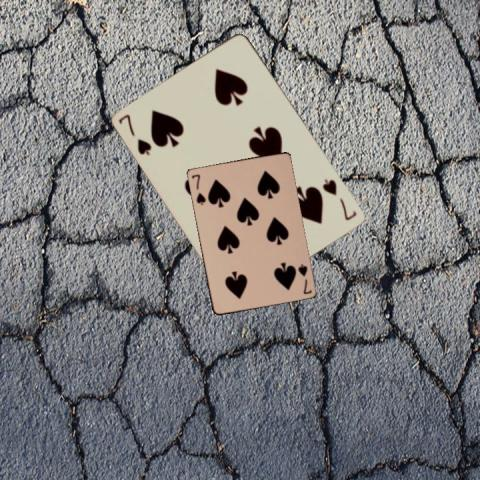7s: (319, 176, 359, 222), (116, 111, 153, 157), (188, 171, 206, 207), (294, 261, 313, 295)
